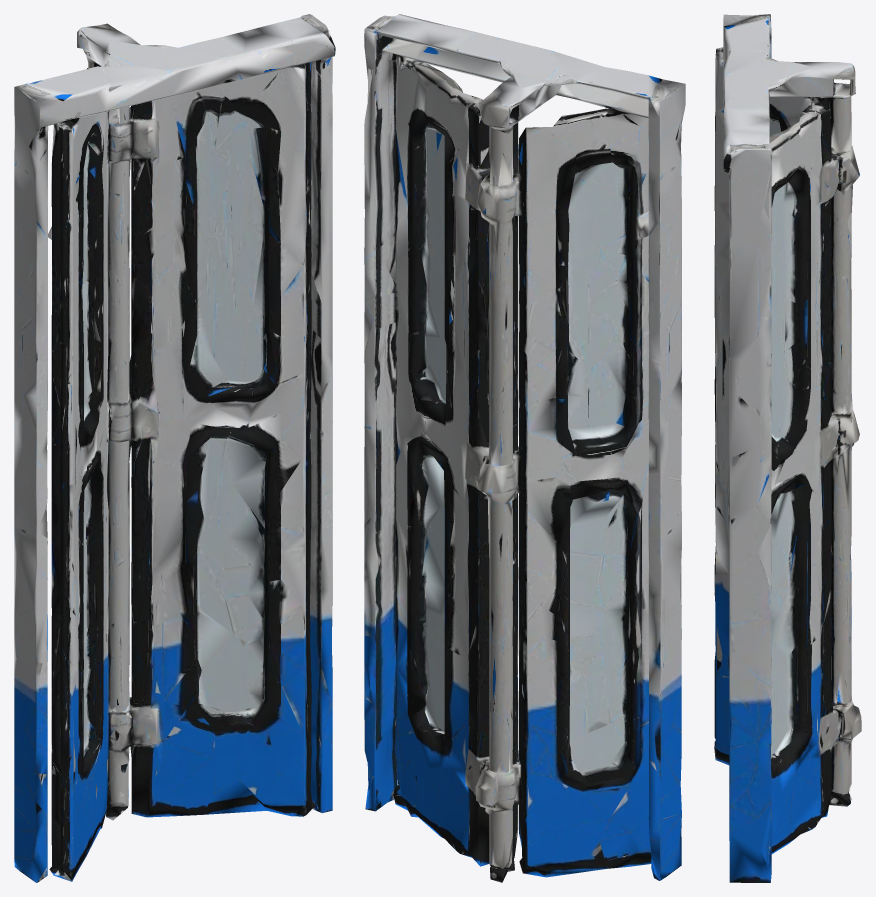
Rendered from puerta.glb.
3 renders of one model, left to right at view 1: azimuth 30°, elevation 25°; view 2: azimuth 150°, elevation 25°; view 3: azimuth 270°, elevation 25°, orthographic. The views are drawn at different scales.
Bounding box in the file's own units: 0.7565 × 1.9 × 0.3457.
1 material, 1 textured.
